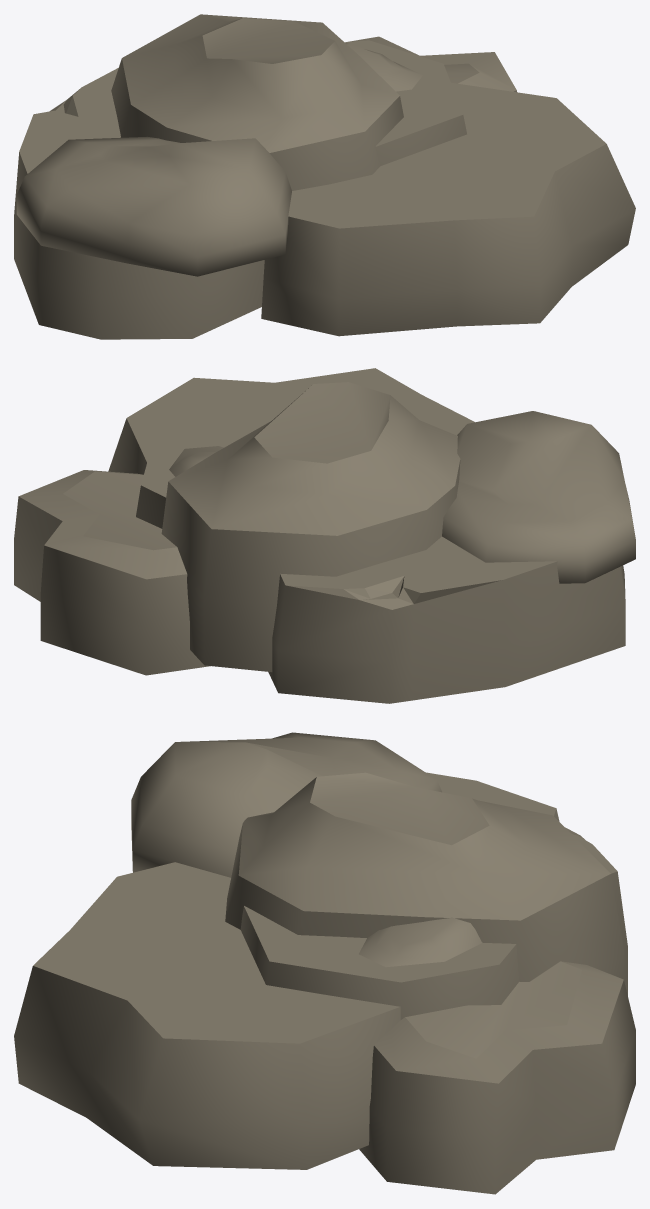
The model's file is TempleRock_B.fbx.
3 renders of one model, top to bottom at view 1: azimuth 30°, elevation 25°; view 2: azimuth 150°, elevation 25°; view 3: azimuth 270°, elevation 25°, orthographic. The views are drawn at different scales.
Parts seen in each view (by area): view 1: TempleRock_B; view 2: TempleRock_B; view 3: TempleRock_B.
Boxes of the visible parts, left/top/right/bottom form: TempleRock_B: left=14, top=14, right=635, bottom=339; TempleRock_B: left=14, top=368, right=635, bottom=703; TempleRock_B: left=14, top=732, right=635, bottom=1194.
Bounding box in the file's own units: 2153 × 796 × 1834.
